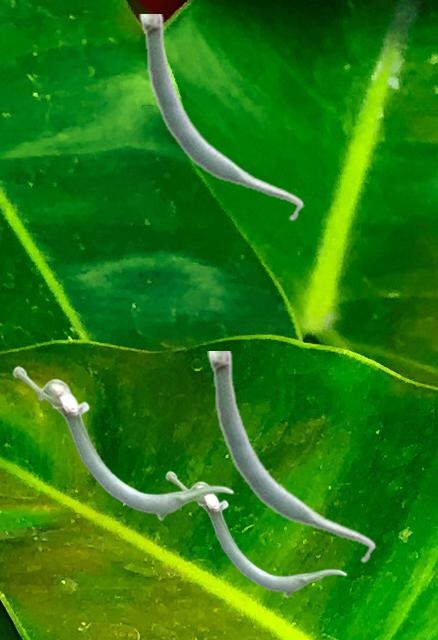french_bean: (207, 351, 375, 563), (12, 365, 233, 520), (139, 14, 303, 221), (165, 470, 346, 597)
